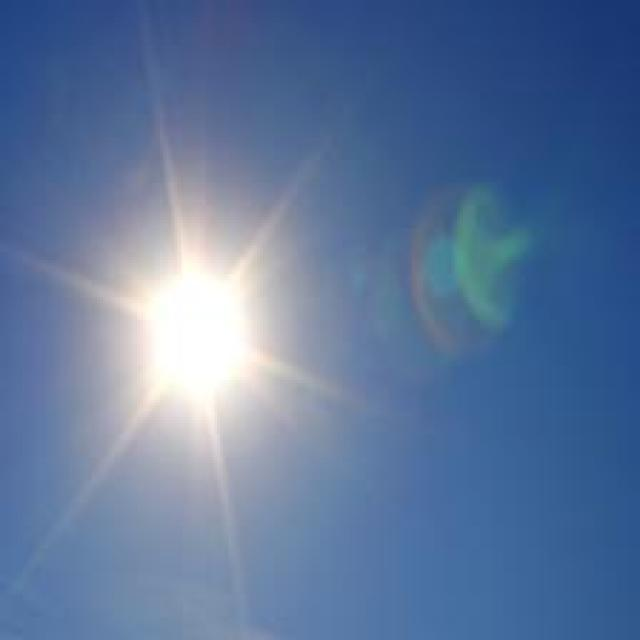sun: (147, 274, 252, 401)
